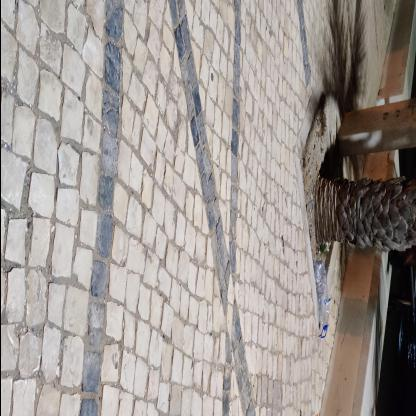plastik: (314, 261, 330, 339)
